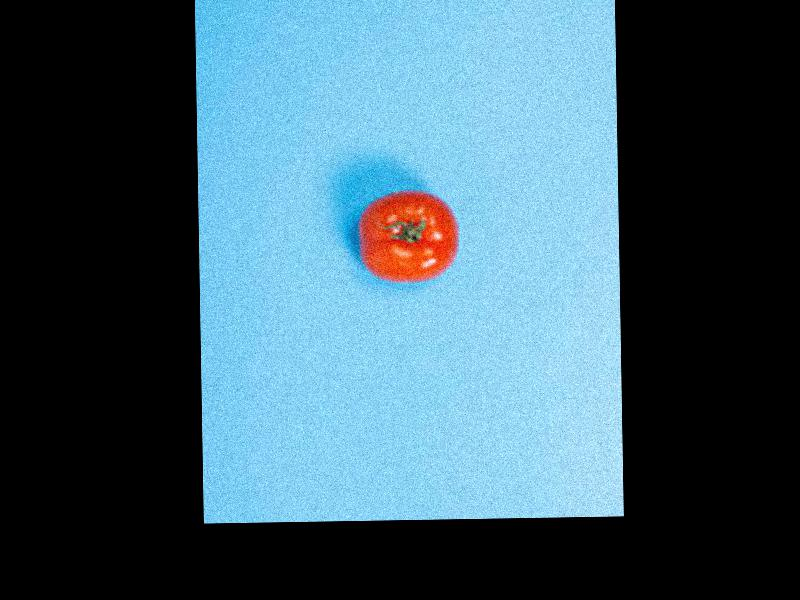Tomato: (358, 186, 460, 282)
